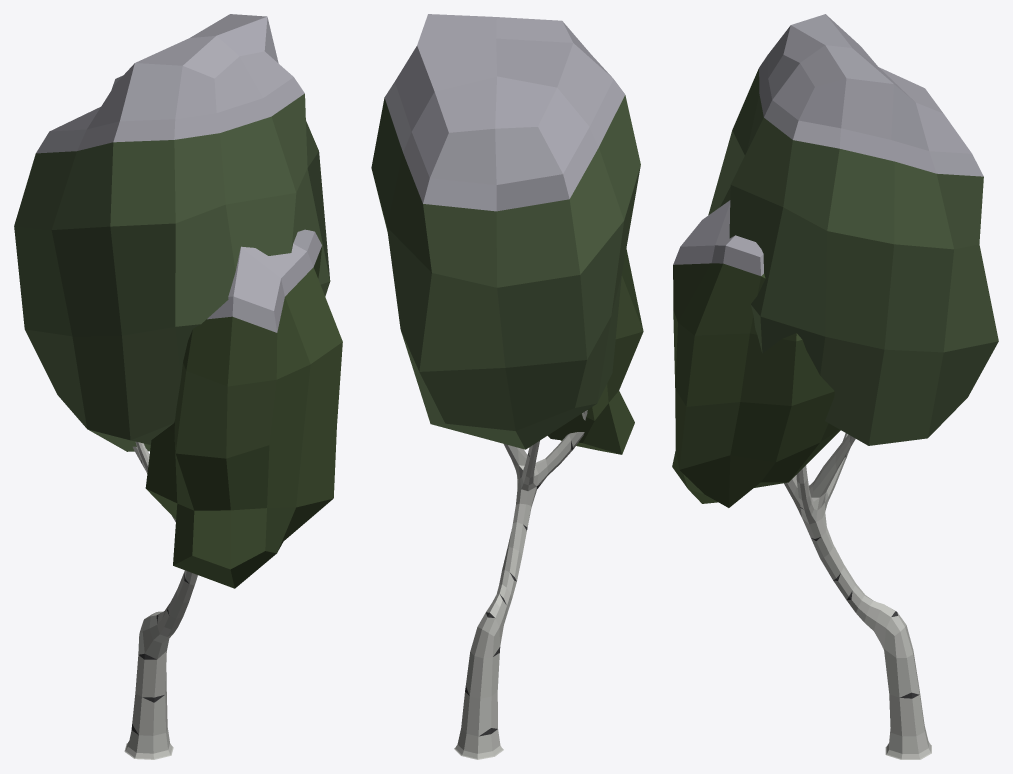
Rendered from quaternius-nature-birch-tree-snow-2.glb.
3 views of the same model, side by side, from view 1: azimuth 30°, elevation 25°; view 2: azimuth 150°, elevation 25°; view 3: azimuth 270°, elevation 25° (orthographic). The views are drawn at different scales.
Parts seen in each view (by area): view 1: BirchTree_Snow_2; view 2: BirchTree_Snow_2; view 3: BirchTree_Snow_2.
Boxes of the visible parts, x1,y1,x2,y2 form: BirchTree_Snow_2: [14, 14, 342, 759]; BirchTree_Snow_2: [371, 14, 643, 759]; BirchTree_Snow_2: [672, 14, 998, 759].
Size of the model in its own units: 1.47 by 4.09 by 1.69.
Materials: 1 (1 with a texture image).
